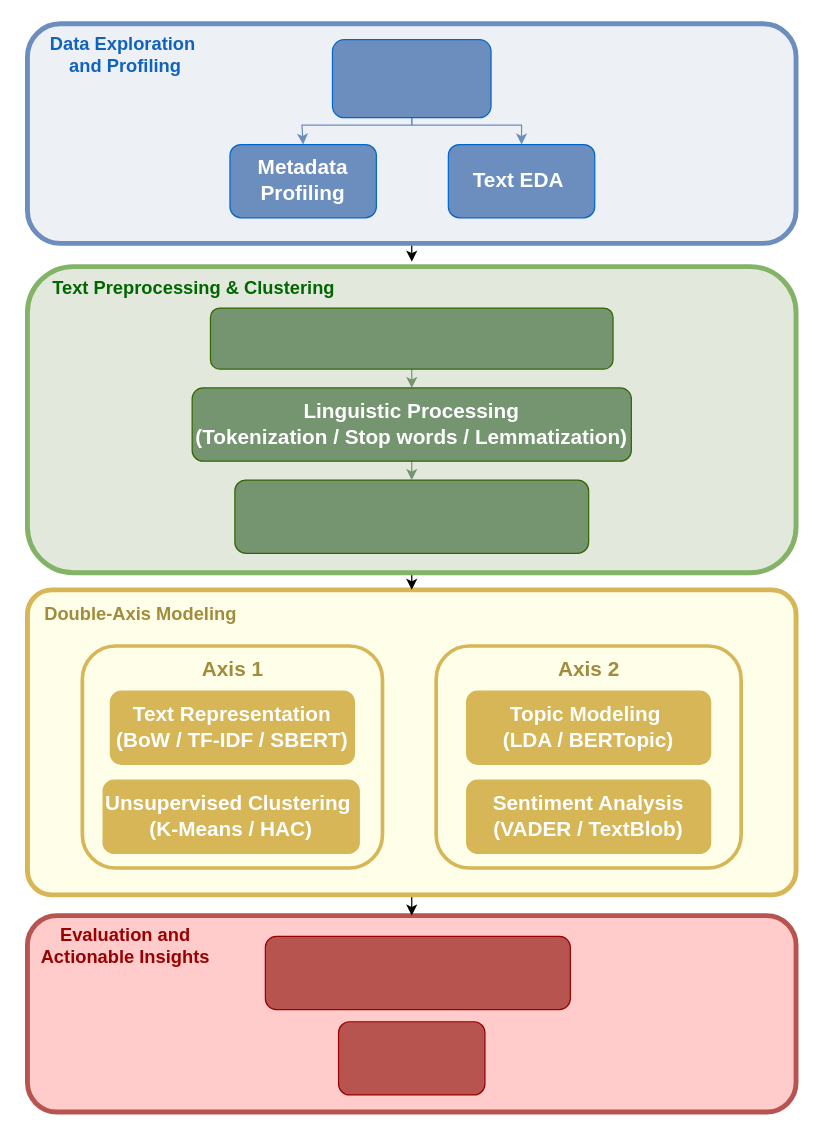
The diagram is 819 pixels wide and 1135 high, and some of its shapes have lost their labels. The shapes that lost their labels are listed below. From the top down, each one's centre as x and y in pixels, then its label:
At (411,78): "Original Customer Data".
At (411,338): "Pre-Tokenization Normalization （Placeholders / Regex / Contractions ）".
At (411,516): "Embeddings Creation (BoW / TF-IDF / Skip-gram / SBERT)".
At (417,972): "Model Evaluation (Silhouette / ARI / NMI)".
At (411,1058): "Actionable Insights".
